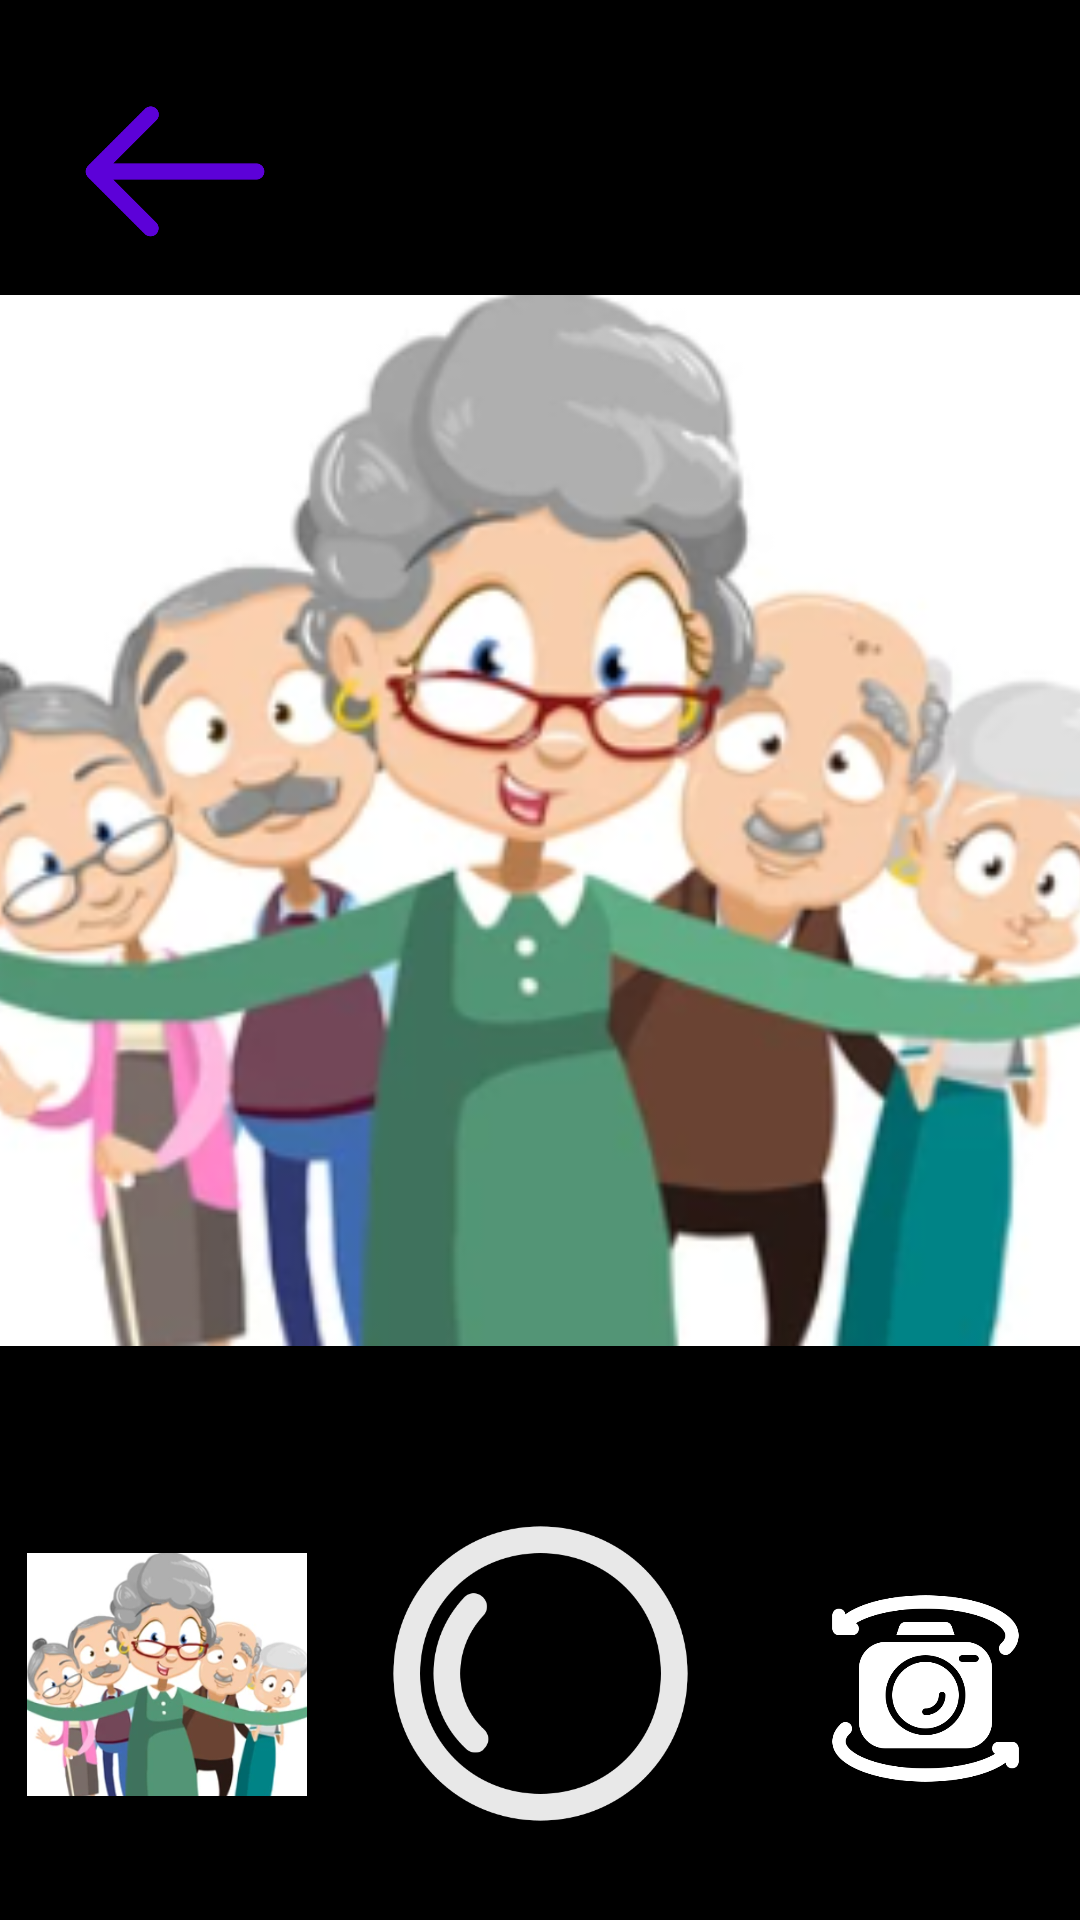

Icon click points for this 1080×1920 phone screenshot, format [x,y]:
back: [175,171]
circle: [540,1673]
selfie: [925,1688]
